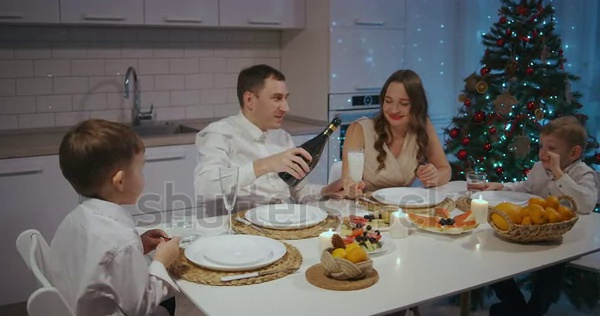No Mask: (231, 64, 303, 134), (529, 121, 585, 174), (378, 76, 423, 133)
